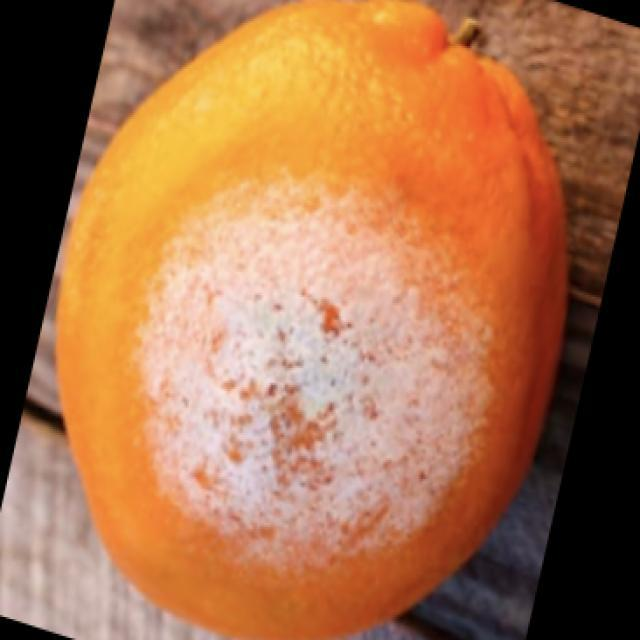sedikit-busuk: (57, 0, 566, 639)
